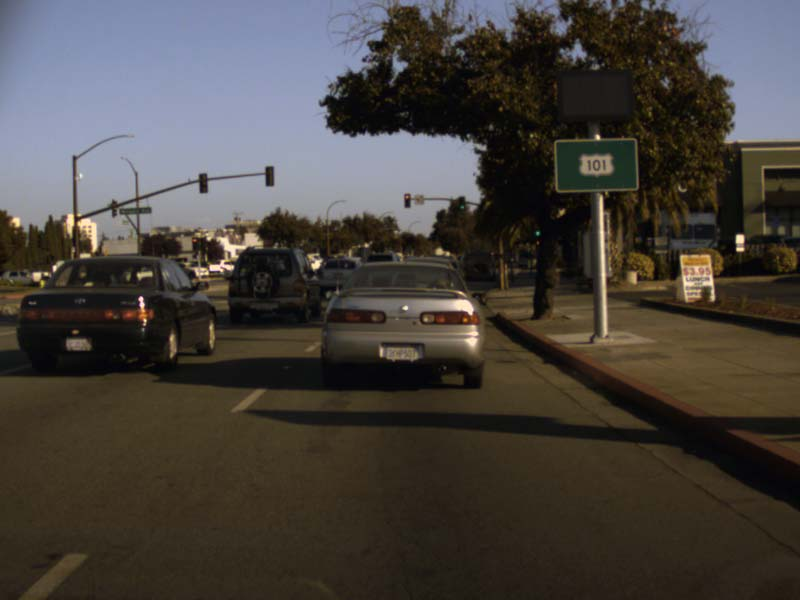Green: (532, 222, 539, 244), (458, 196, 466, 211)
Red: (403, 193, 410, 208)
